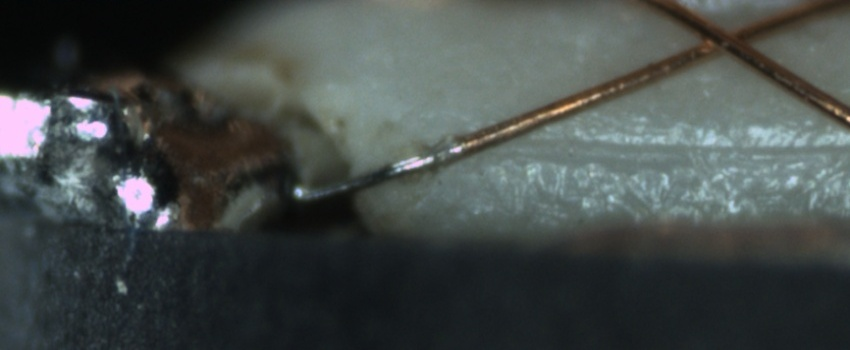CL: (681, 11, 766, 63)
DL: (442, 127, 850, 185)
TS: (297, 138, 464, 203)
TTCW: (287, 119, 515, 203)
